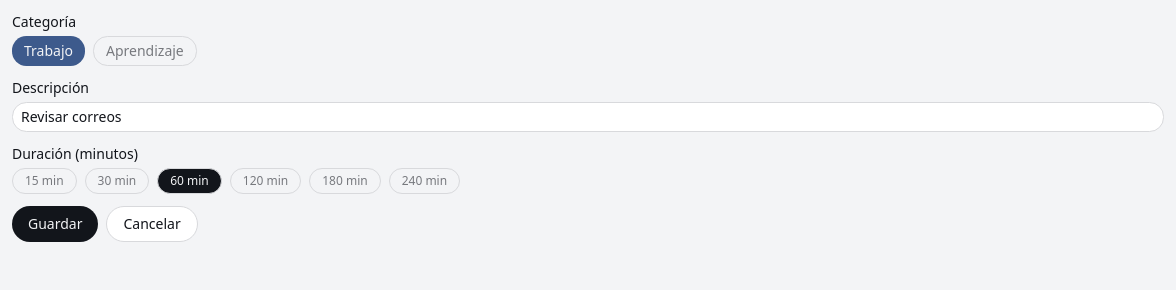
EditEntryForm › shows a friendly Spanish toast and keeps the form open on failure
Click the button "Guardar": (55, 224) [12,206,98,242]
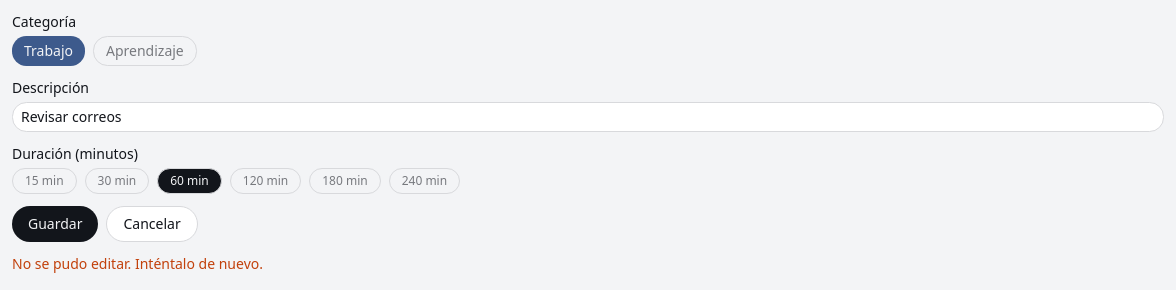
Expected: the field labelled "Descripción" holds "Revisar correos", [12,102,1164,132]
Expected: the message shows "No se pudo editar", [12,254,263,273]
